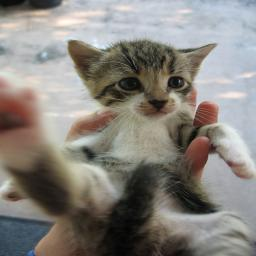catnose: (147, 96, 171, 113)
